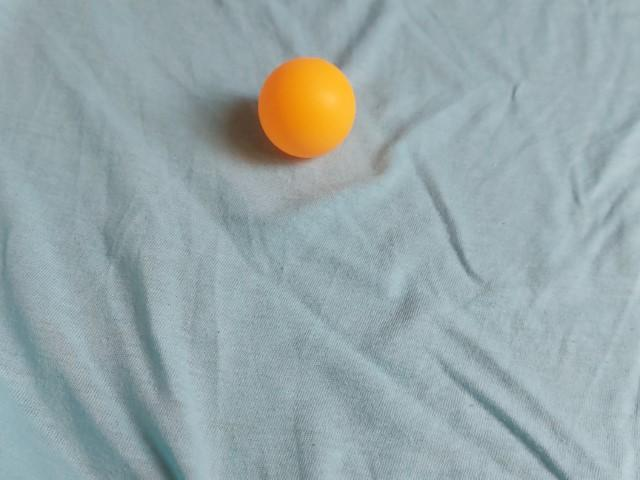oball: (253, 50, 364, 165)
